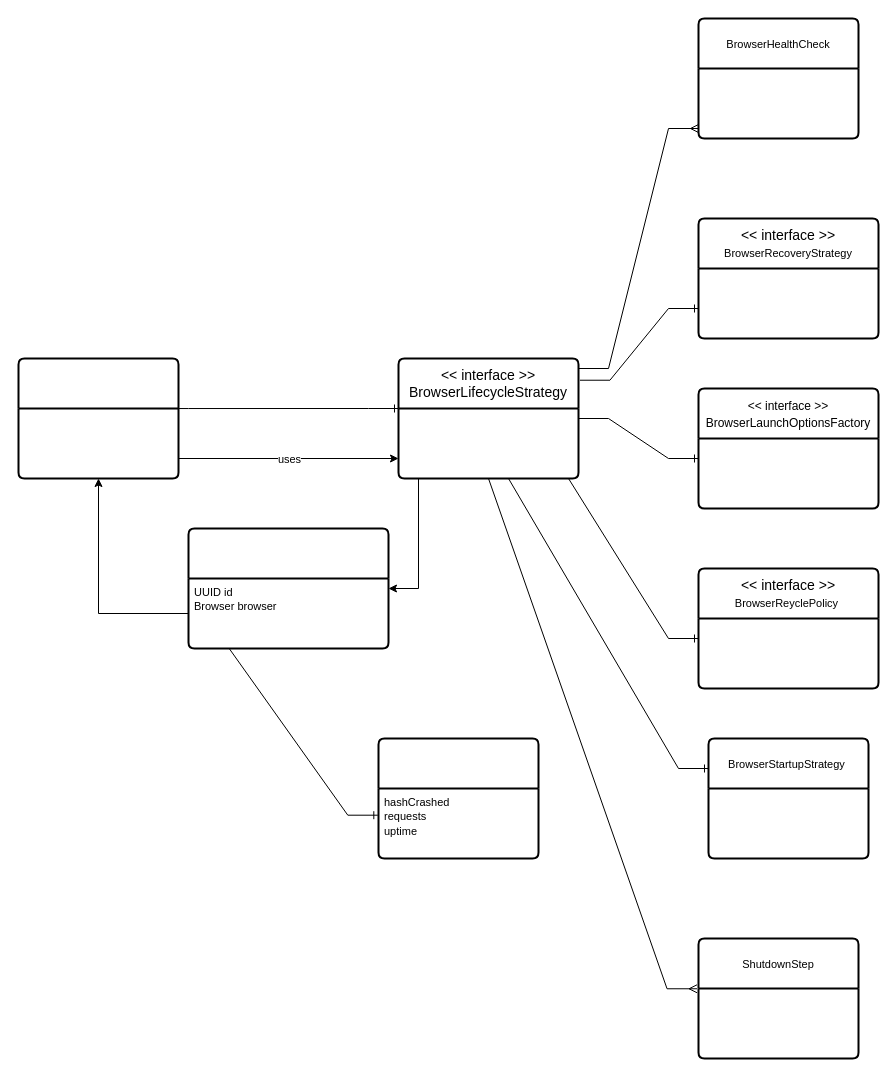
Some shapes in this 896 by 1076 pixel diagram are drawn without their labels. The box of each missing label's shape, as (x1, y1, x2, y2) in pixels:
BrowserManager: (17, 357, 179, 479)
BrowserStats: (377, 737, 539, 859)
ManagedBrowser: (187, 527, 389, 649)
